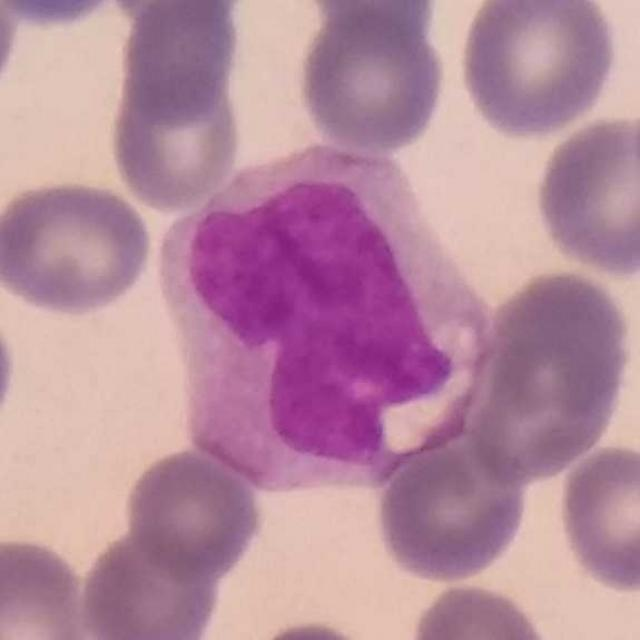Monocyte: (157, 144, 493, 496)
RBC: (468, 265, 639, 485), (372, 433, 532, 585), (294, 4, 451, 157), (454, 0, 622, 140), (1, 175, 156, 319), (104, 68, 244, 215), (120, 445, 267, 583), (530, 110, 640, 280), (76, 524, 225, 640), (114, 1, 246, 124), (553, 441, 640, 595), (0, 532, 98, 640), (405, 577, 554, 640), (300, 0, 448, 50), (102, 0, 252, 30), (0, 0, 131, 30), (241, 616, 382, 640), (0, 291, 20, 444), (0, 0, 22, 107)
